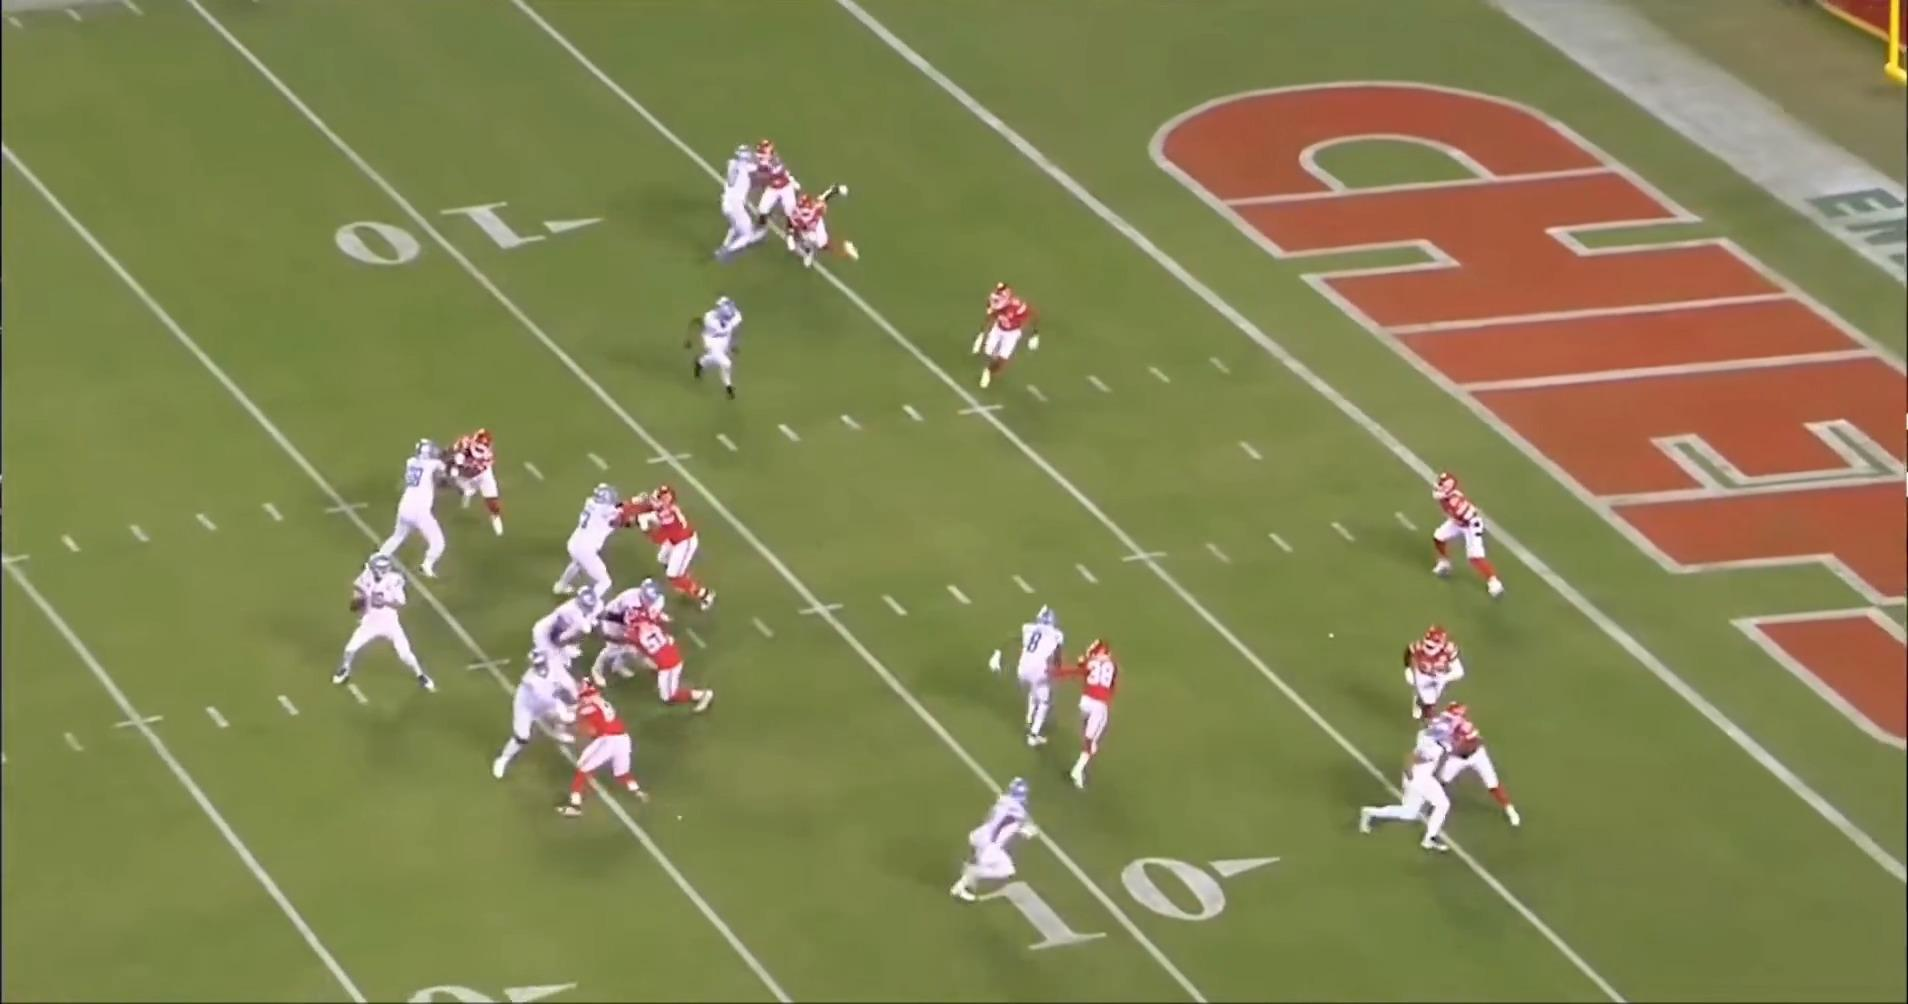defense: (565, 681, 658, 824), (1427, 704, 1519, 833), (1420, 470, 1503, 604), (642, 480, 724, 612), (633, 609, 726, 719), (1060, 634, 1123, 789), (765, 177, 862, 271), (963, 281, 1038, 392), (707, 140, 772, 268), (446, 423, 511, 538), (1397, 624, 1465, 723)
oline: (492, 638, 593, 788), (375, 436, 464, 582), (551, 481, 639, 602), (593, 580, 663, 685), (521, 585, 599, 666)
qb: (327, 548, 442, 694)
skill: (1359, 713, 1471, 855), (954, 777, 1043, 910), (1006, 601, 1073, 746), (744, 144, 823, 266), (689, 290, 761, 403)
